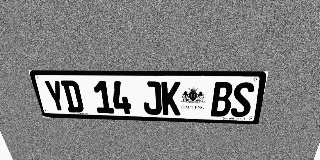1: (92, 81, 114, 113)
4: (110, 81, 132, 114)
B: (211, 82, 234, 117)
D: (60, 80, 85, 113)
J: (142, 81, 162, 115)
K: (161, 81, 181, 115)
S: (230, 82, 255, 117)
Y: (43, 80, 68, 112)
